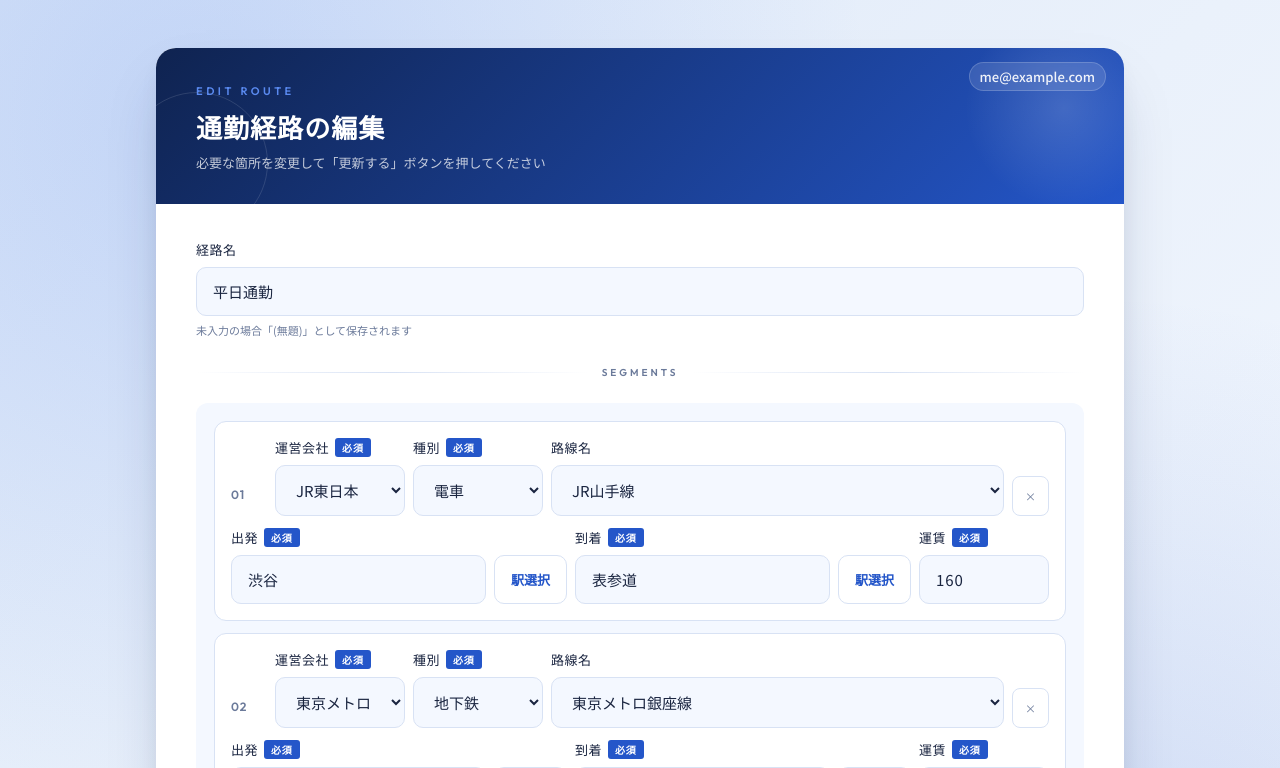
Test: RouteEdit › リセットボタン (confirm OK) でスナップショット (取得時状態) に戻る
Replace the text in the field labelled "経路名" with "変更後" at (640, 292), box x1=196 y1=267 x2=1084 y2=316
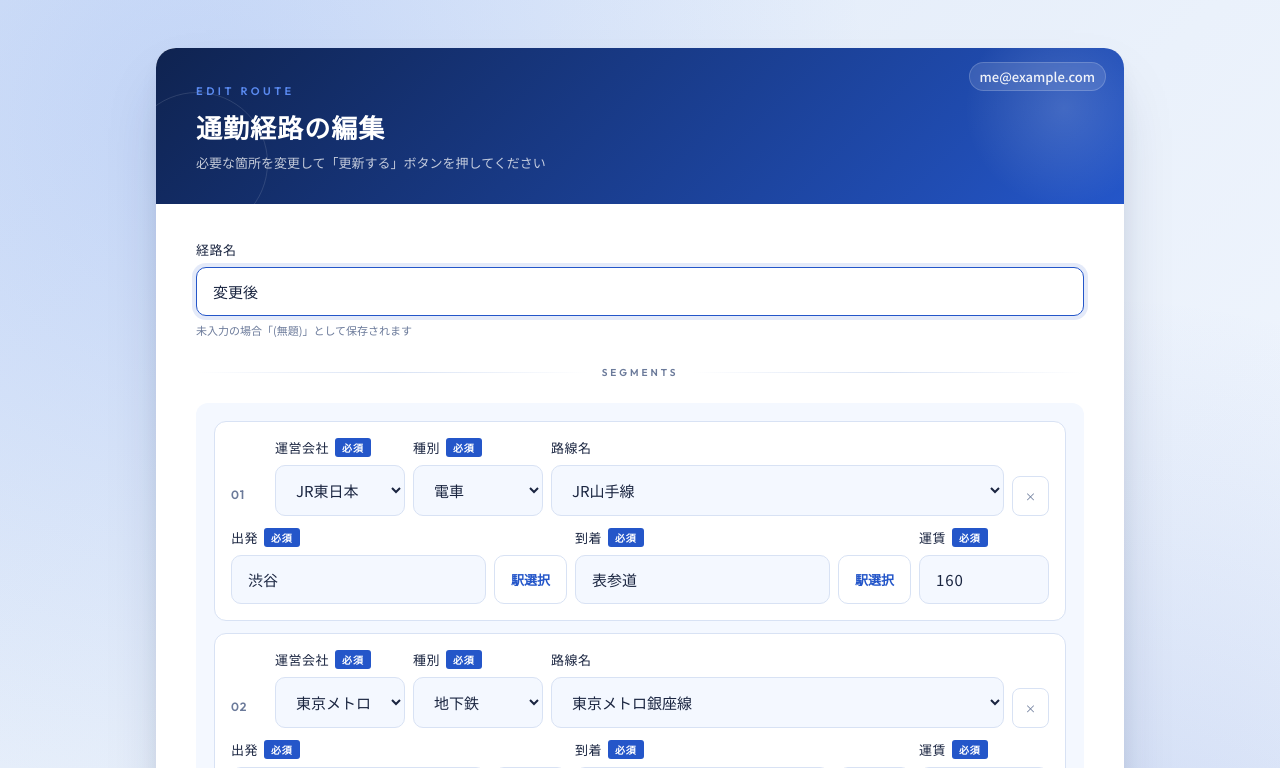
Type "999" into the number field named "区間1 運賃" at (984, 580), box x1=919 y1=555 x2=1049 y2=604
(page scrolled)
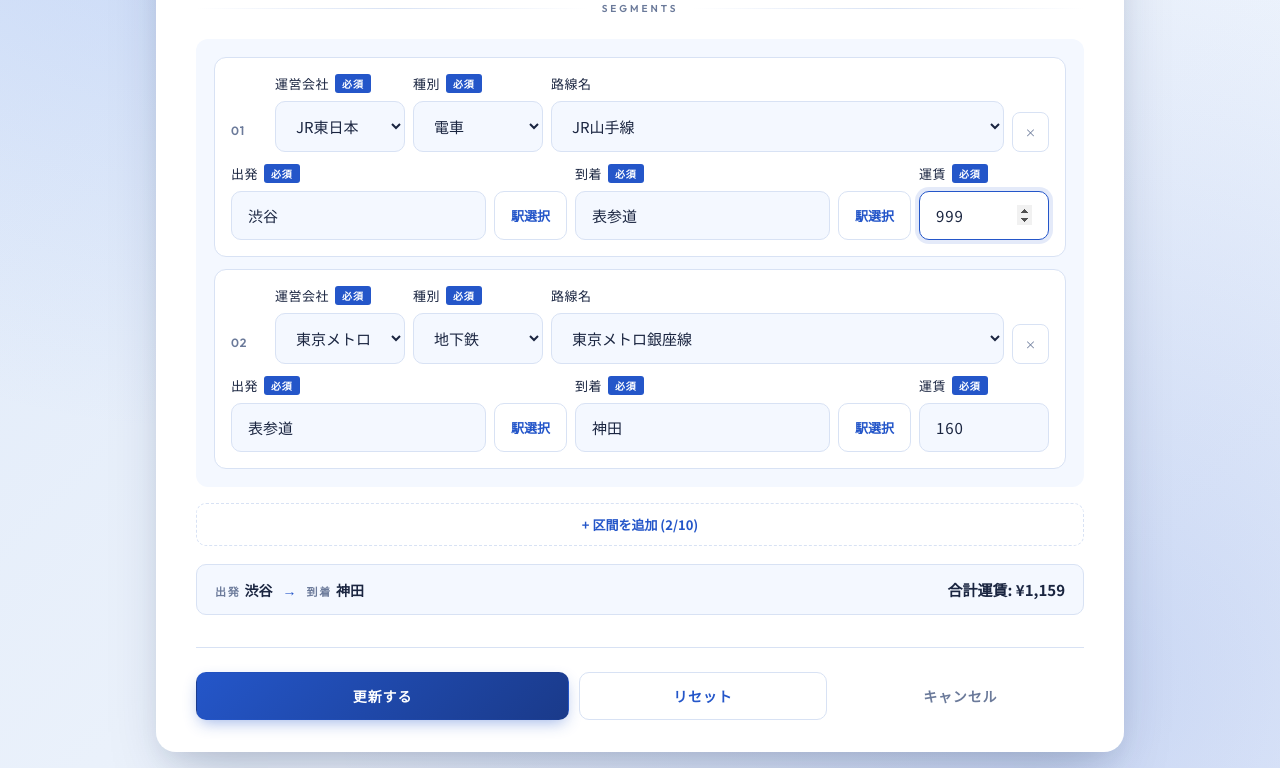
Click the button "リセット" at (703, 696), box x1=579 y1=672 x2=827 y2=720
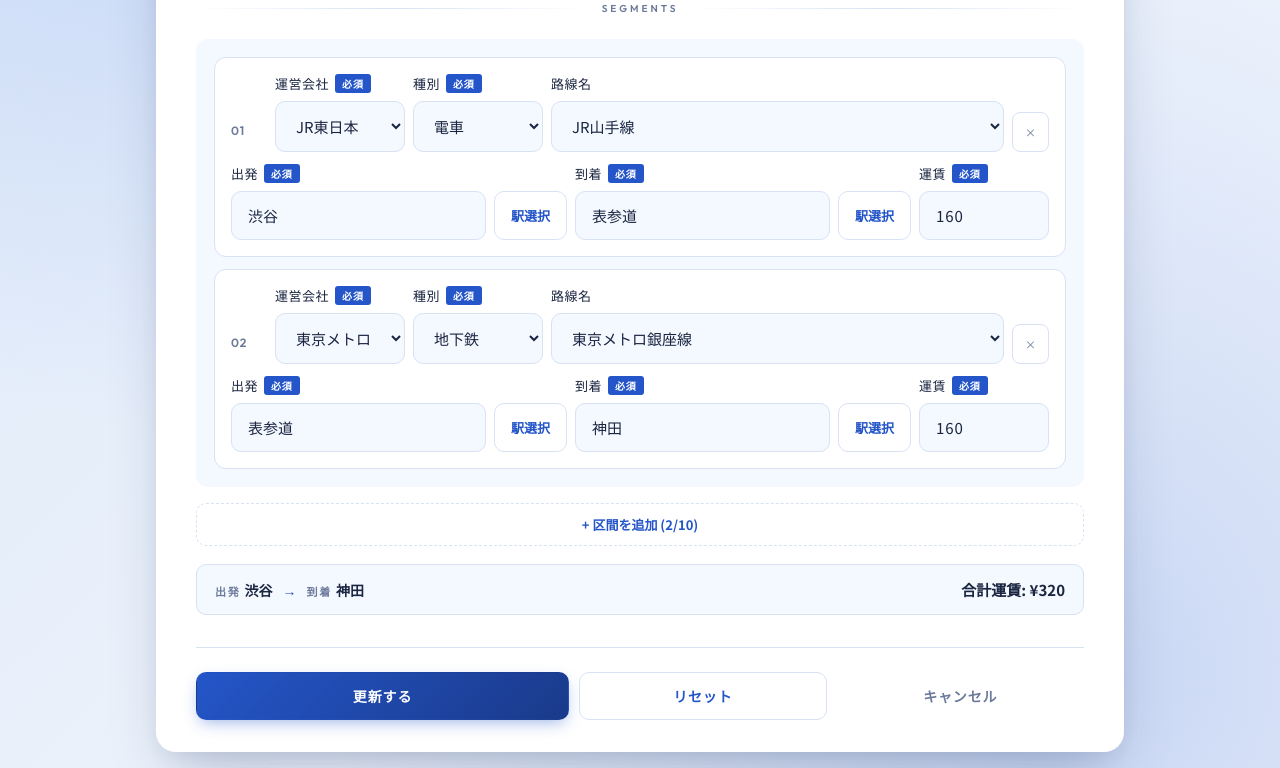
Expected: the number field named "区間1 運賃" holds "160", x1=919 y1=191 x2=1049 y2=240
